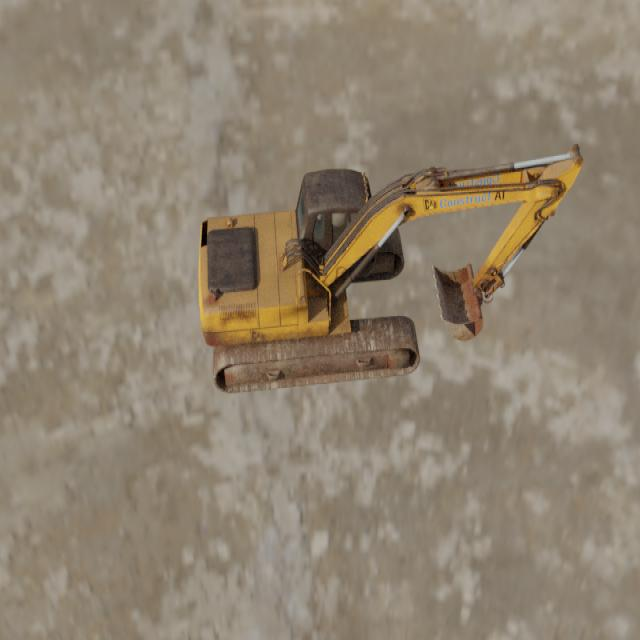excavator: (198, 143, 583, 393)
